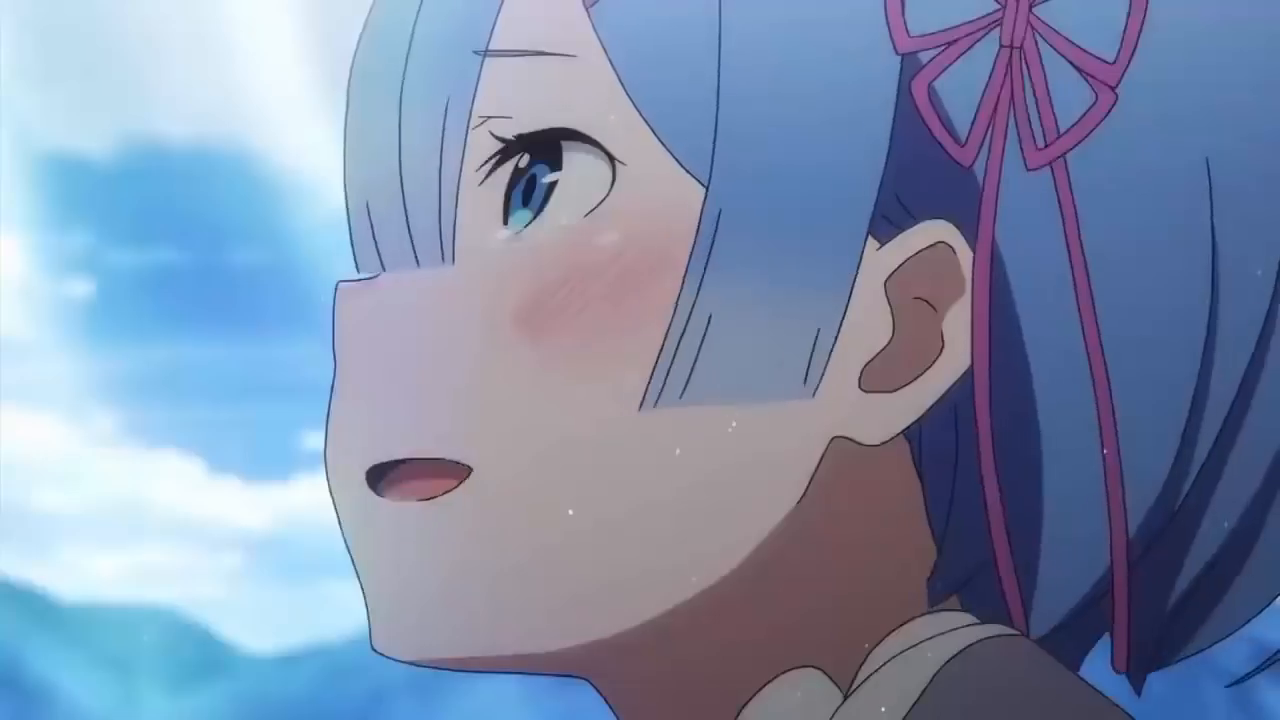REM: (309, 2, 1280, 675)
